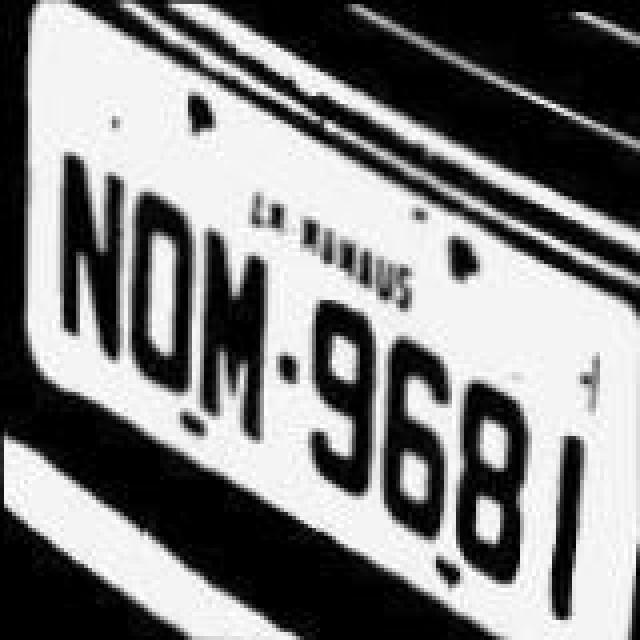1: (524, 408, 596, 636)
6: (372, 318, 460, 550)
8: (450, 370, 534, 590)
9: (300, 292, 388, 516)
M: (184, 220, 268, 452)
N: (42, 152, 130, 376)
O: (122, 194, 202, 414)
